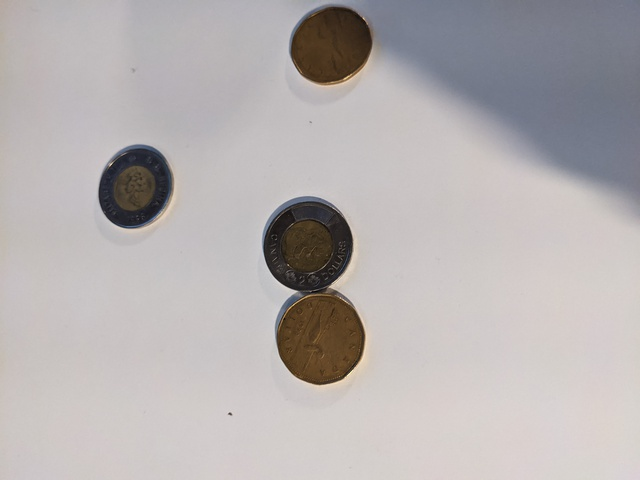loonie: (262, 286, 370, 384), (289, 2, 388, 90)
twonie: (261, 197, 354, 289), (97, 148, 175, 228)
